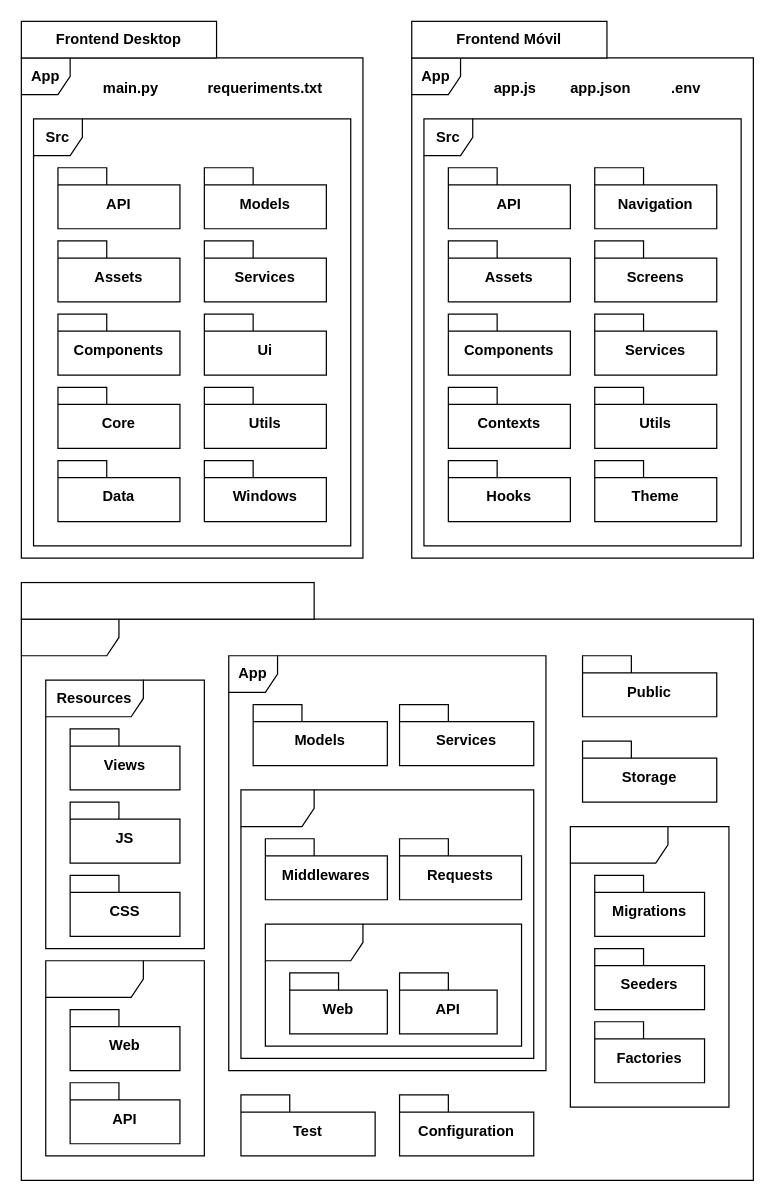
This 775x1202 diagram has some shape labels left out. The shapes that lost their labels are listed below. From the top down, each one's box as (x1, y1, x2, y2) in pixels, then its label:
(20, 581, 314, 619): Frontend Web + Backend API
(20, 618, 753, 1180): Project
(240, 789, 534, 1058): HTTP
(264, 923, 522, 1046): Controllers
(569, 825, 729, 1107): Database
(45, 960, 204, 1156): Routes
